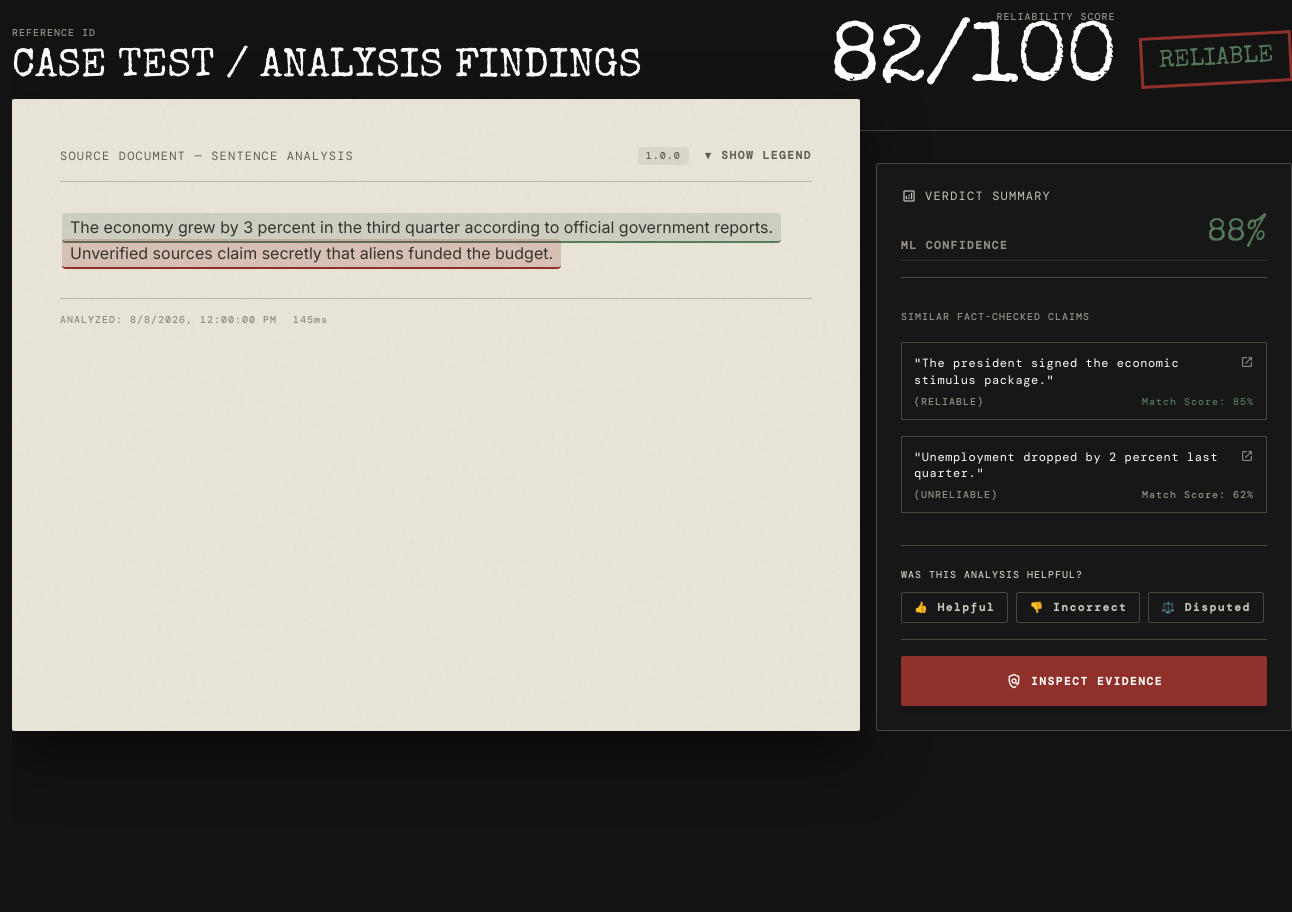
Test: Phase 3 UI Components & Interactions › handles feedback submission successfully and shows success toast
This screenshot has width=1292, height=912.
Step 1. Click the button "👍 Helpful" → (955, 608), box [901, 592, 1008, 623]
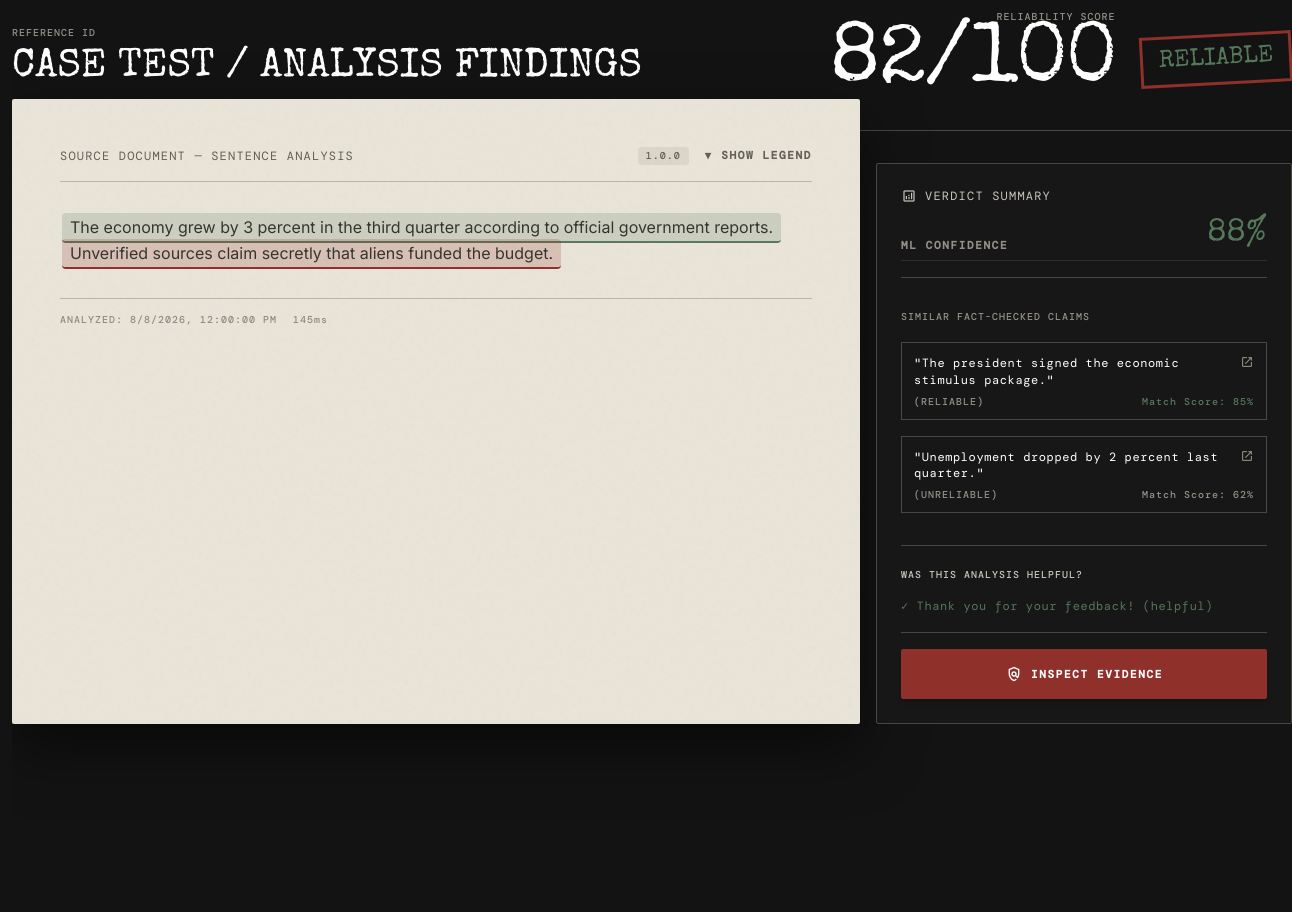
Expected: the text "✓ Thank you for your feedback! (helpful)" is shown, [901, 598, 1213, 614]
